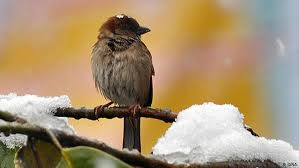hsparrow: (86, 11, 163, 162)
